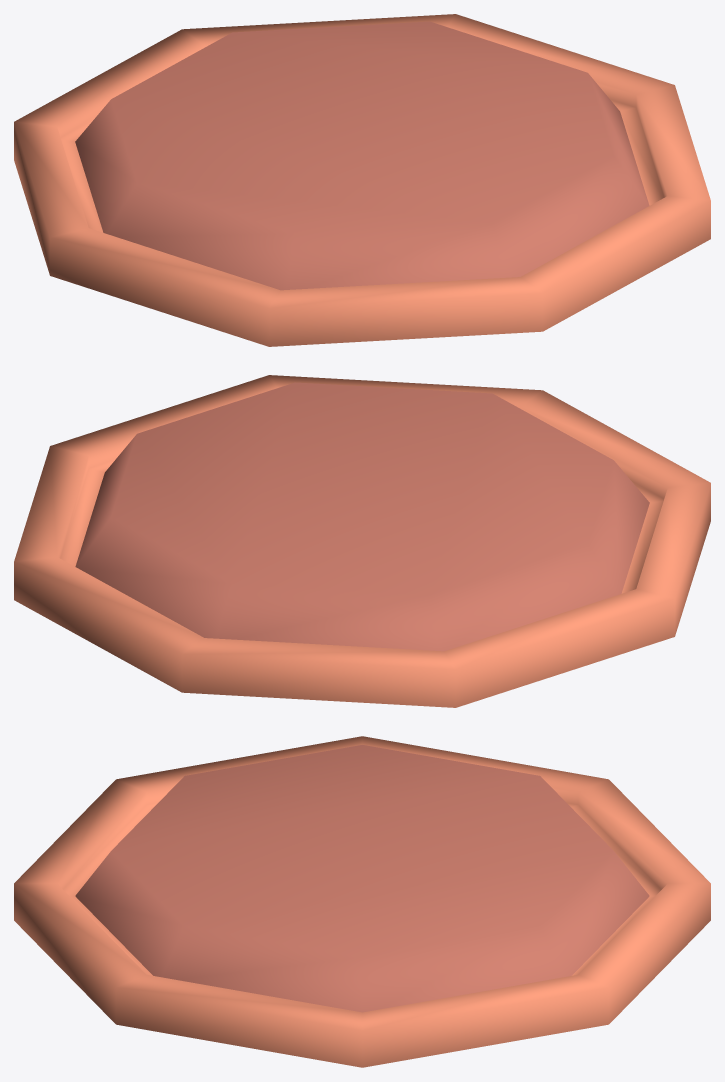
Rendered from Botton.fbx.
3 renders of one model, top to bottom at view 1: azimuth 30°, elevation 25°; view 2: azimuth 150°, elevation 25°; view 3: azimuth 270°, elevation 25°, orthographic. The views are drawn at different scales.
Parts seen in each view (by area): view 1: polySurface8, polySurface7; view 2: polySurface8, polySurface7; view 3: polySurface8, polySurface7.
Boxes of the visible parts, box(x1,y1,x2,y2) form: polySurface8: box(75, 21, 649, 290); polySurface7: box(14, 14, 710, 346); polySurface8: box(75, 382, 649, 651); polySurface7: box(14, 375, 710, 707); polySurface8: box(75, 745, 649, 1012); polySurface7: box(14, 736, 710, 1067).
Size of the model in its own units: 13.06 by 1.44 by 13.06.
